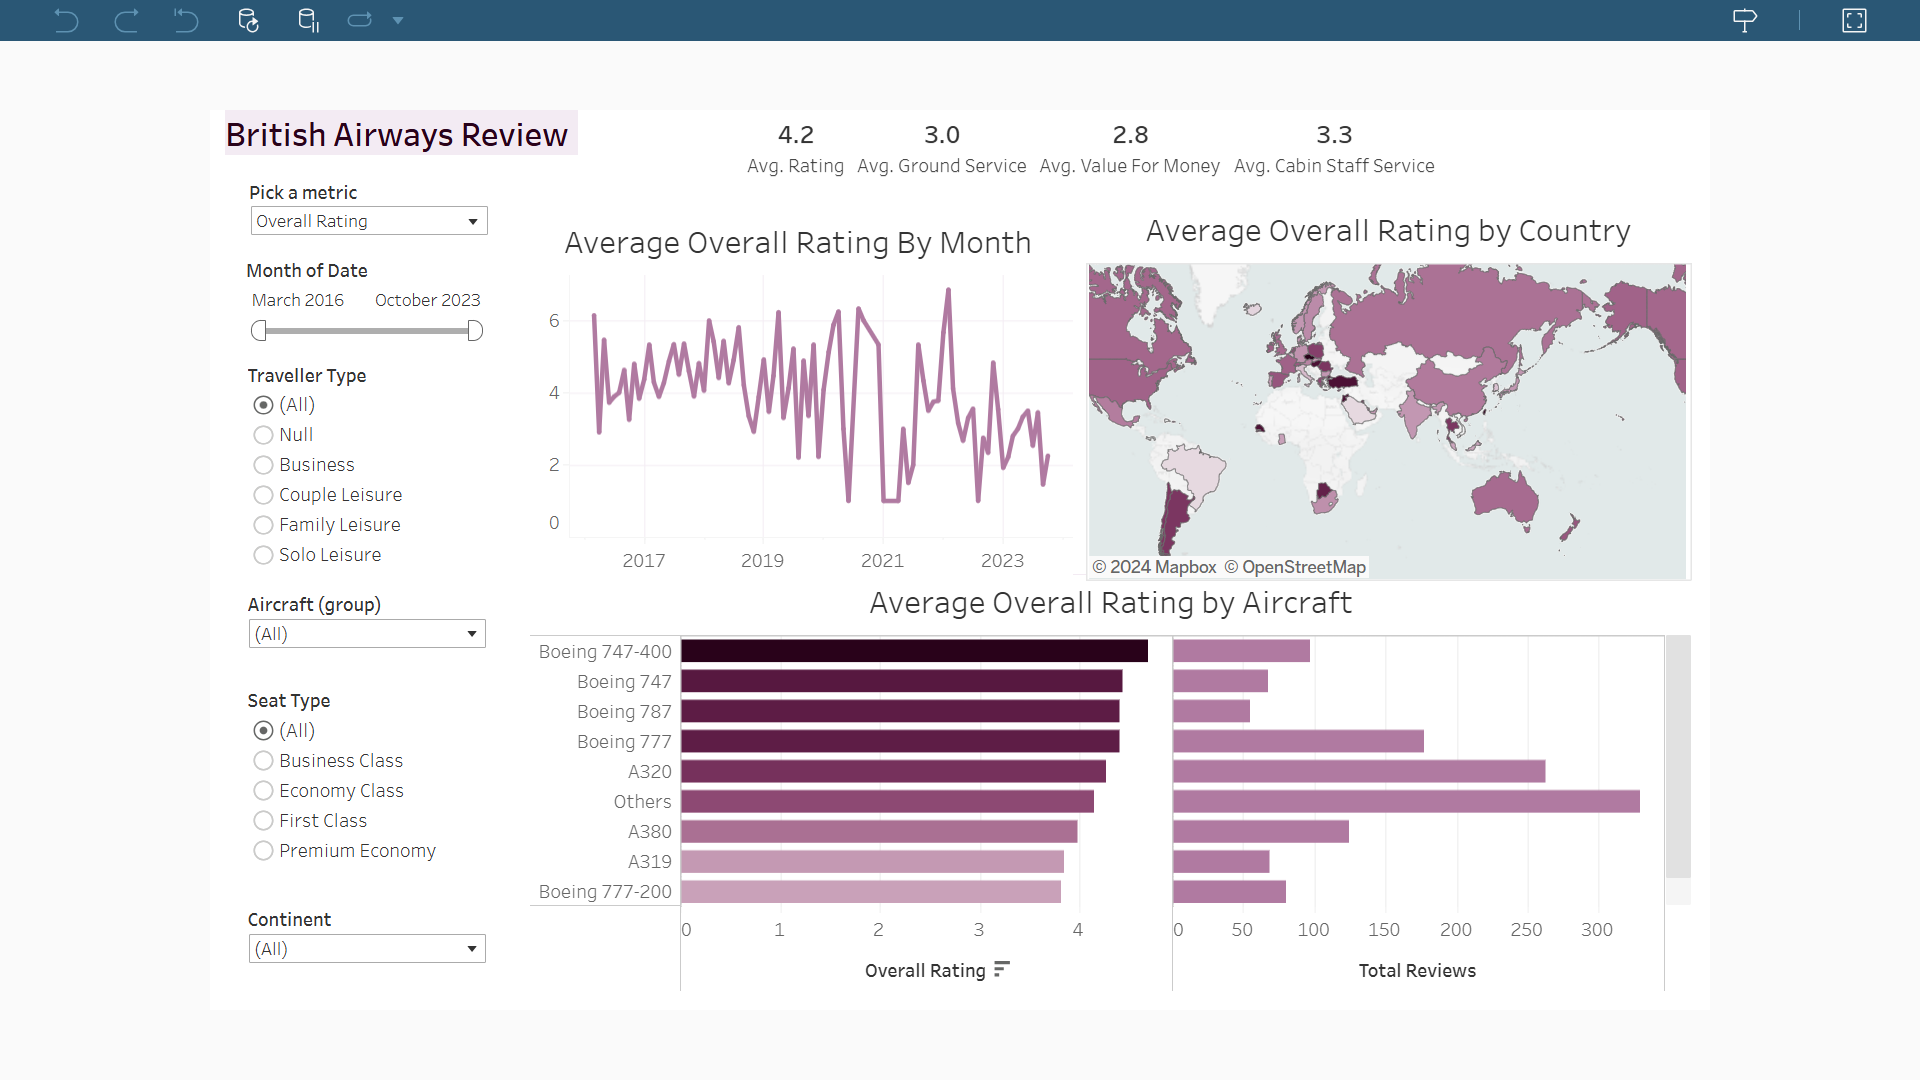

Layout of this report page (visuals, bound fields, positions):
{"tool":"tableau","page":{"name":"Dashboard 1","canvas":[1000,600],"ordinal":0},"visuals":[{"type":"text","box":[10,0,235,30]},{"type":"worksheet","title":"Summary","mark":"Automatic","box":[350,0,500,310]},{"type":"parameter","param":"[Parameters].[Parameter 1]","box":[26,45,160,48]},{"type":"worksheet","title":"Map","mark":"Automatic","box":[584,59,404,255]},{"type":"worksheet","title":"month","mark":"Automatic","rows":["Calculation_1055538190508036"],"cols":["date"],"box":[209,67,366,247]},{"type":"filter","title":"Map","param":"[federated.0pwc72611mdq2111i2pp107hb553].[tmn:date:qk]","box":[24,97,160,62]},{"type":"filter","title":"Map","param":"[federated.0pwc72611mdq2111i2pp107hb553].[none:traveller_type:nk]","box":[25,167,160,145]},{"type":"worksheet","title":"Aircraft","mark":"Automatic","cols":["Calculation_1055538190508036","ba_reviews.csv_6FAB8B9040F3418794D8CA142EDC6A79"],"box":[213,307,775,281]},{"type":"filter","title":"Map","param":"[federated.0pwc72611mdq2111i2pp107hb553].[Aircraft (group)]","box":[25,320,160,48]},{"type":"filter","title":"Map","param":"[federated.0pwc72611mdq2111i2pp107hb553].[none:seat_type:nk]","box":[25,384,160,125]},{"type":"filter","title":"Map","param":"[federated.0pwc72611mdq2111i2pp107hb553].[none:Continent:nk]","box":[25,530,160,48]}]}

Visuals, with their boxes on the page's 1000x600 design canvas (x1, y1, x2, y2). These are canvas units, not pixel positions in the 1920x1080 screenshot, which may show the page scaled, cropped or inside an application window:
text: {"left": 10, "top": 0, "right": 245, "bottom": 30}
"Summary" worksheet: {"left": 350, "top": 0, "right": 850, "bottom": 310}
parameter: {"left": 26, "top": 45, "right": 186, "bottom": 93}
"Map" worksheet: {"left": 584, "top": 59, "right": 988, "bottom": 314}
"month" worksheet: {"left": 209, "top": 67, "right": 575, "bottom": 314}
"Map" filter: {"left": 24, "top": 97, "right": 184, "bottom": 159}
"Map" filter: {"left": 25, "top": 167, "right": 185, "bottom": 312}
"Aircraft" worksheet: {"left": 213, "top": 307, "right": 988, "bottom": 588}
"Map" filter: {"left": 25, "top": 320, "right": 185, "bottom": 368}
"Map" filter: {"left": 25, "top": 384, "right": 185, "bottom": 509}
"Map" filter: {"left": 25, "top": 530, "right": 185, "bottom": 578}
